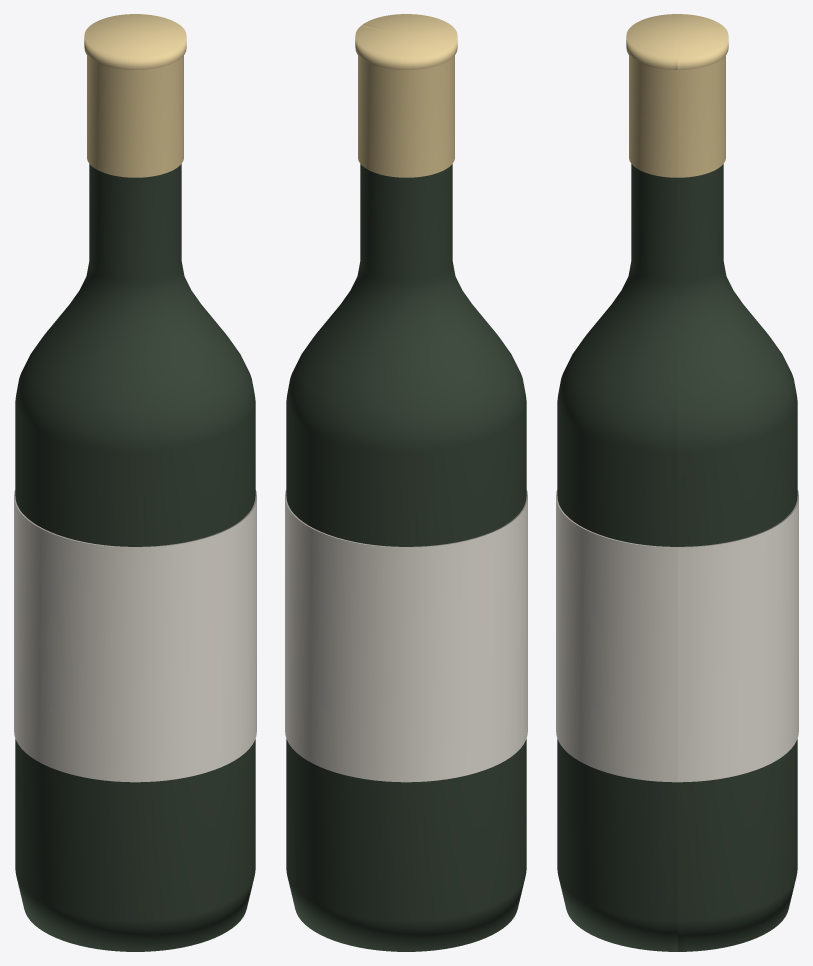
The model's file is bordeaux.glb.
3 views of the same model, side by side, from view 1: azimuth 30°, elevation 25°; view 2: azimuth 150°, elevation 25°; view 3: azimuth 270°, elevation 25° (orthographic).
Visible parts, largest first — view 1: dish; view 2: dish; view 3: dish.
Boxes of the visible parts, box(x1,y1,x2,y2) form: dish: box(14, 14, 256, 951); dish: box(285, 14, 527, 951); dish: box(556, 14, 798, 951).
Size of the model in its own units: 0.076 by 0.3 by 0.076.
